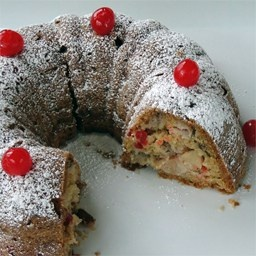background: (0, 2, 102, 102)
